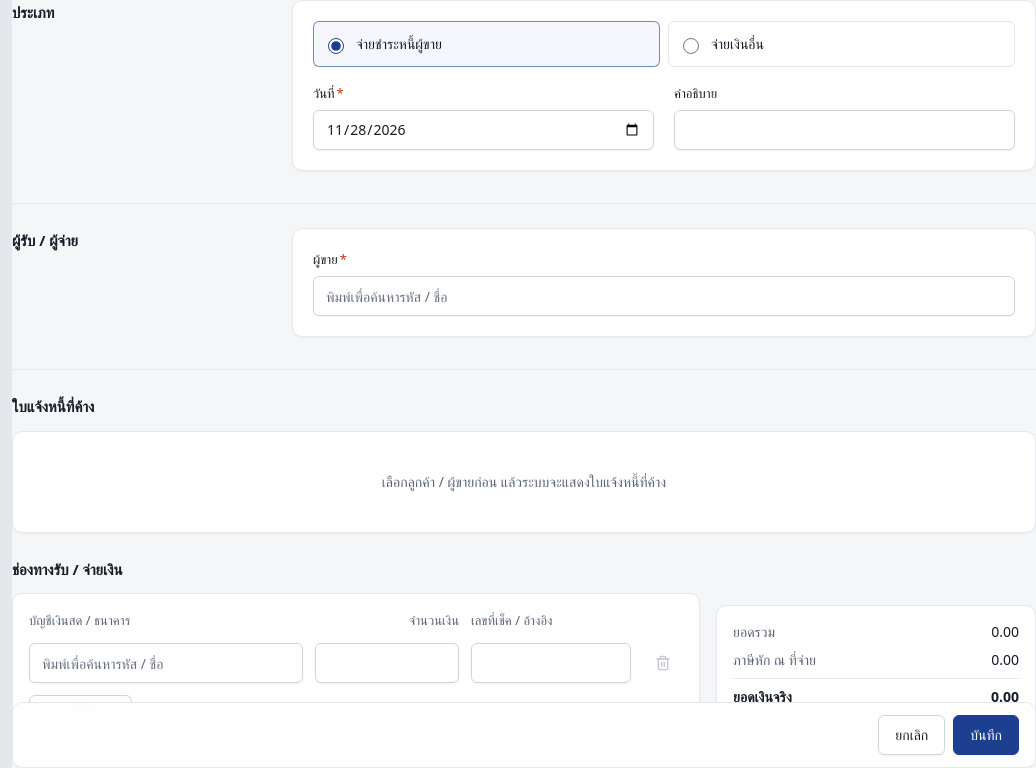
Test: MoneyDocForm (จ่ายเงินอื่น) › คำนวณภาษีหัก ณ ที่จ่าย ยอดเงินจริง และบอกผลต่างของช่องทางทั้งไอคอนและข้อความ
This screenshot has width=1036, height=768.
Click the radio button labelled "จ่ายเงินอื่น" at (691, 46), box [683,38,699,54]
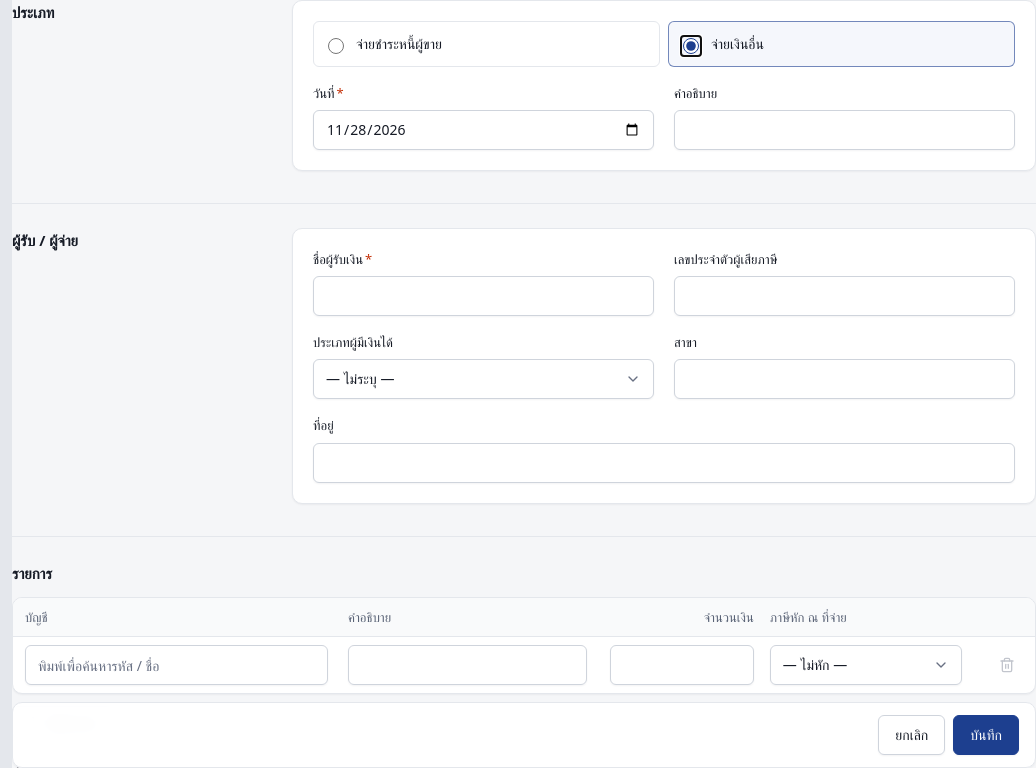
Type "2500" into the field labelled "จำนวนเงิน รายการ 1" at (682, 665), box [611,646,753,684]
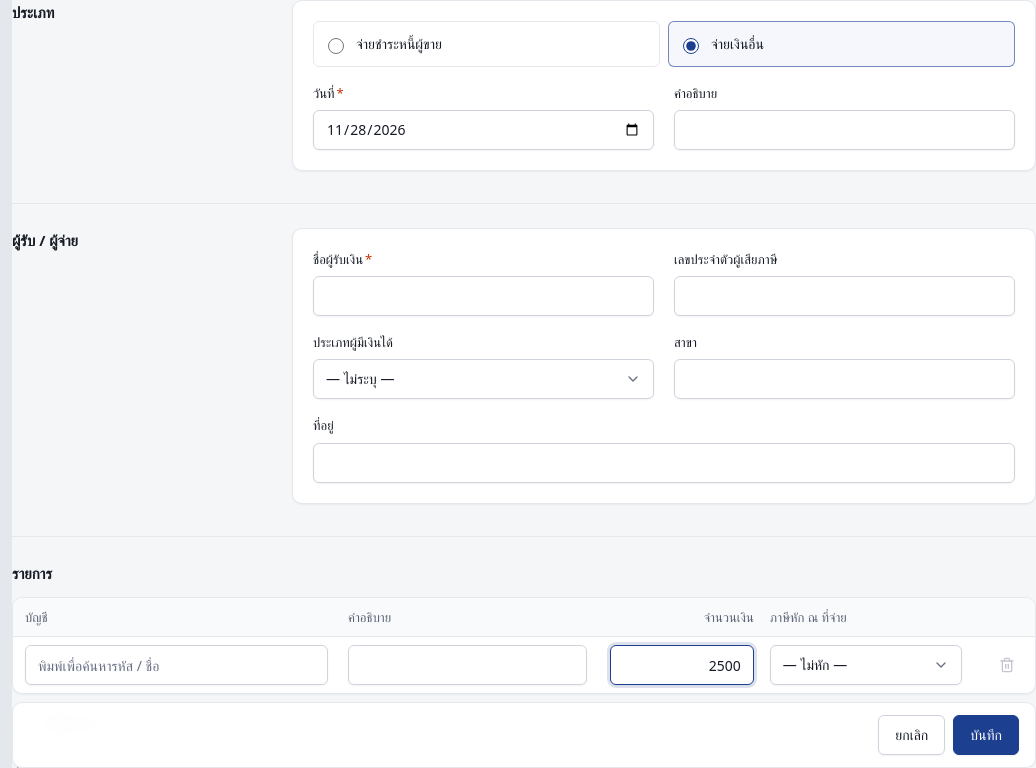
Select "ค่าบริการ 3%" in the dropdown labelled "ภาษีหัก ณ ที่จ่าย รายการ 1" at (866, 665), box [771,646,961,684]
(page scrolled)
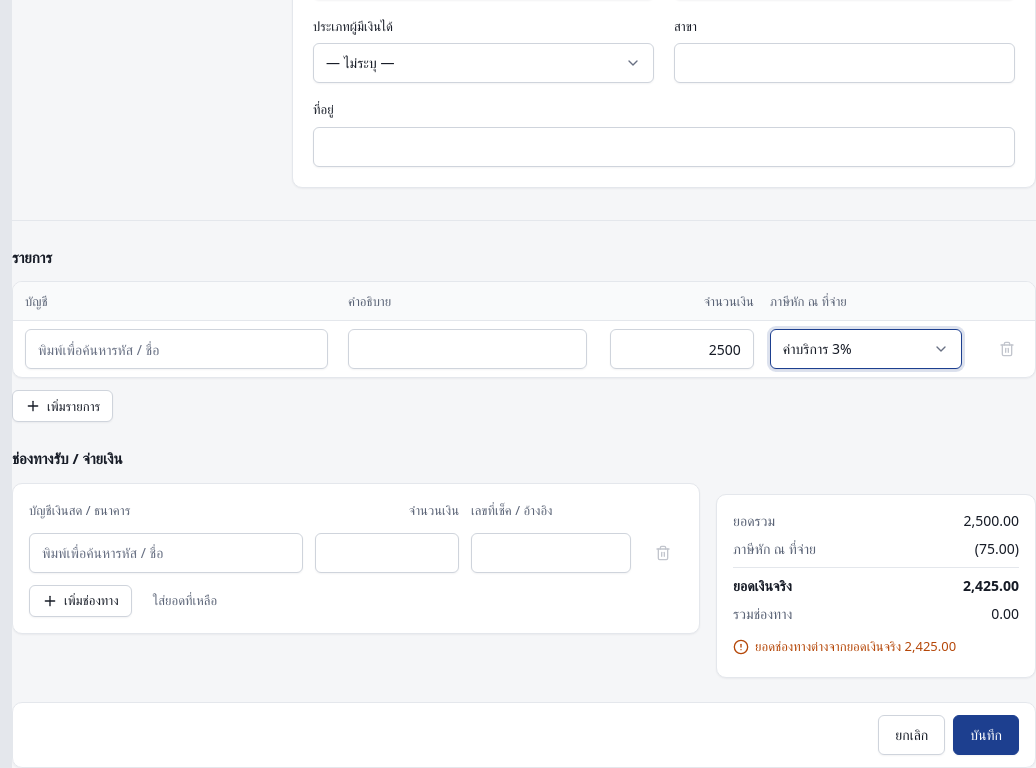
Expected: the text "(75.00)" is shown, [975,539,1019,559]
Expected: the text "2,425.00" is shown, [963,576,1019,596]
Type "2425" into the field labelled "จำนวนเงิน ช่องทาง 1" at (387, 553), box [316,534,458,572]
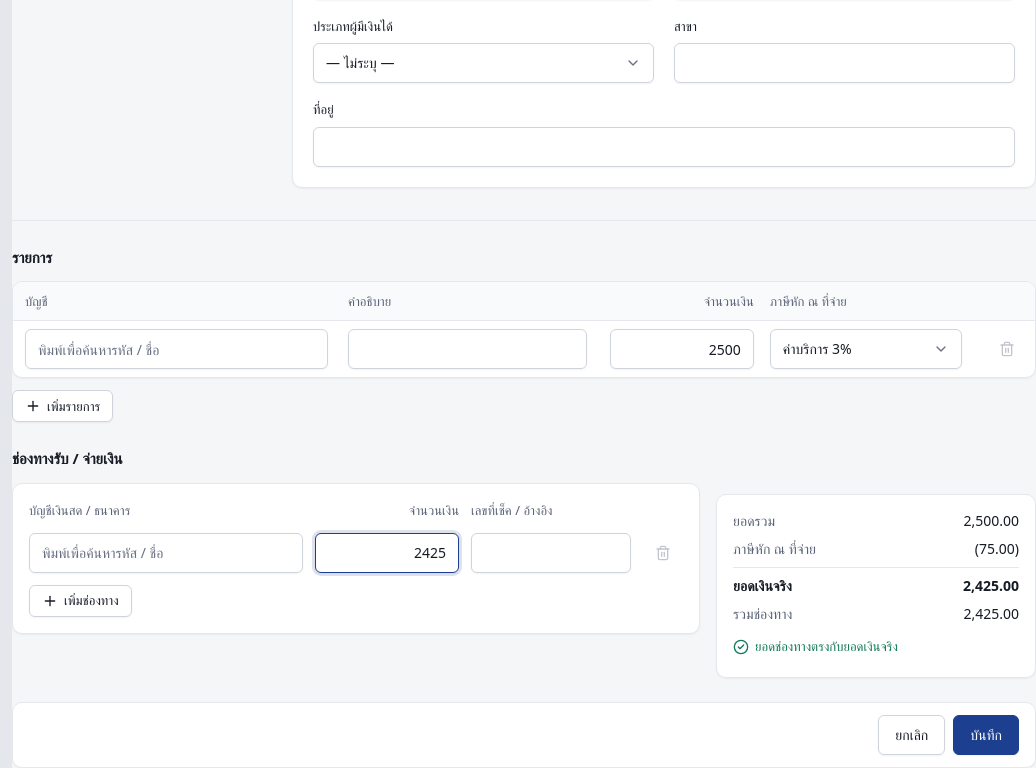
Expected: the text "ยอดช่องทางตรงกับยอดเงินจริง" is shown, [733,636,898,658]
